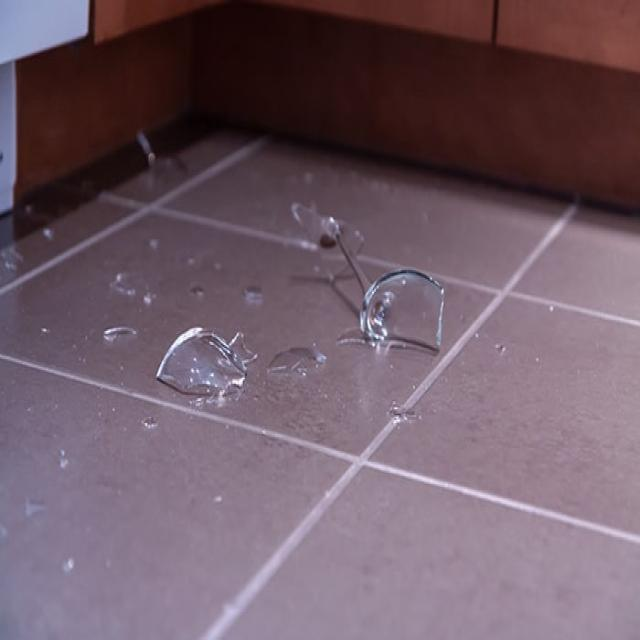Dry Waste: (360, 268, 445, 354), (155, 327, 247, 400), (268, 339, 328, 379)
